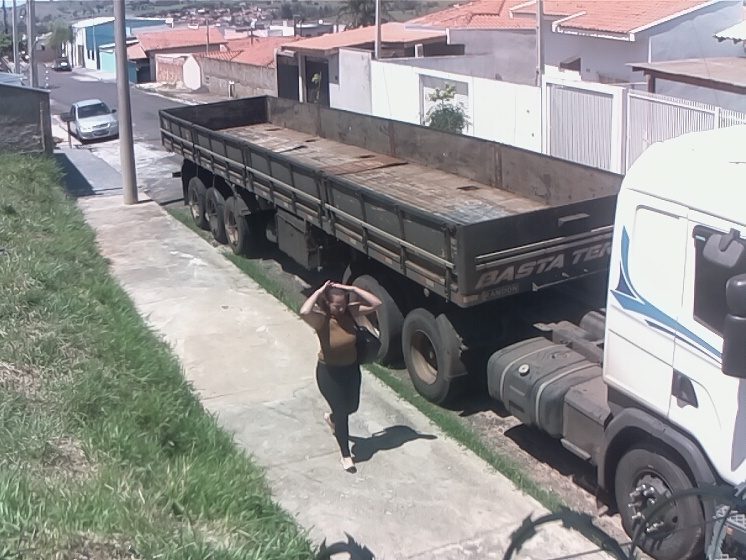person: (299, 278, 383, 475)
